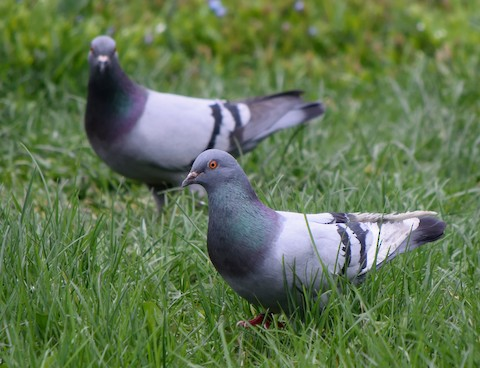pigeon: (184, 135, 451, 334), (81, 33, 340, 226)
